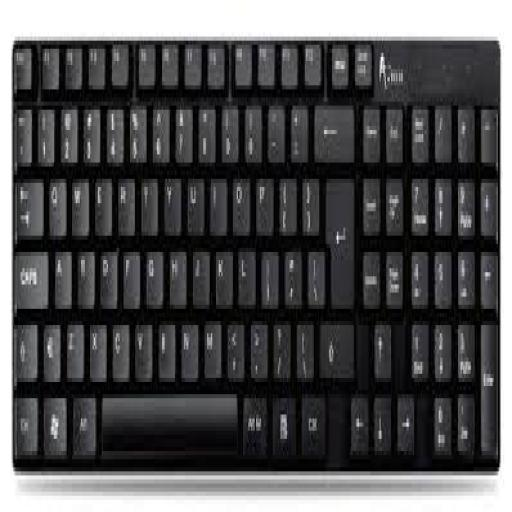keyboard: (8, 41, 503, 471)
